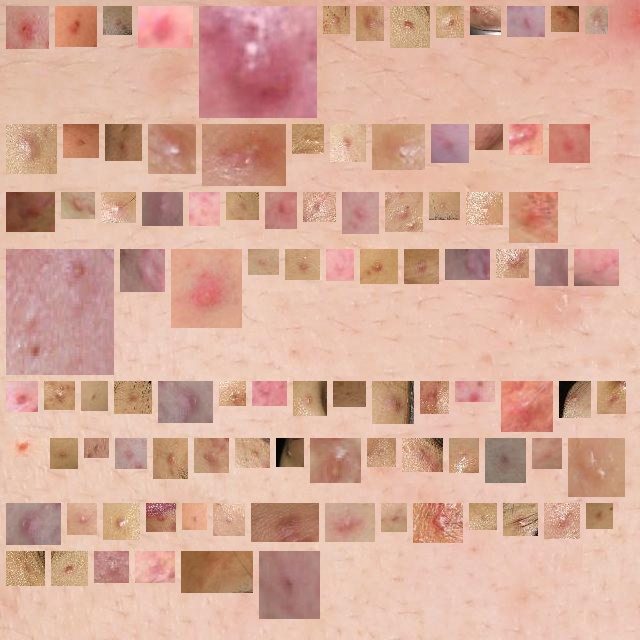papule: (14, 257, 106, 367), (207, 14, 309, 110), (179, 257, 234, 320), (210, 132, 278, 178), (267, 559, 312, 611), (576, 446, 617, 489), (189, 559, 245, 585), (509, 389, 545, 424), (259, 511, 311, 534), (14, 132, 49, 166), (517, 200, 550, 235), (380, 132, 417, 162), (156, 132, 188, 166), (318, 446, 353, 475), (146, 14, 185, 40), (166, 389, 205, 415), (14, 511, 53, 537), (421, 511, 455, 535), (14, 200, 47, 224), (128, 257, 157, 284), (333, 511, 367, 534), (14, 14, 41, 41), (493, 446, 518, 475), (380, 389, 406, 416), (63, 14, 89, 39), (398, 14, 422, 40), (582, 257, 611, 278), (557, 132, 582, 155), (350, 200, 371, 226), (393, 200, 415, 224), (439, 132, 461, 155), (161, 446, 180, 471), (150, 200, 175, 218), (410, 446, 435, 464), (113, 132, 134, 153), (111, 511, 132, 532), (338, 132, 358, 154), (14, 559, 37, 578), (453, 257, 482, 272), (368, 257, 390, 276), (552, 511, 572, 531), (59, 559, 80, 578), (143, 559, 167, 575), (122, 389, 144, 406), (412, 257, 431, 276), (202, 446, 221, 465), (71, 132, 91, 150), (474, 200, 495, 217), (543, 257, 560, 278), (301, 389, 319, 408), (273, 200, 289, 221), (567, 389, 583, 410), (515, 14, 537, 29), (511, 511, 530, 528), (102, 559, 121, 575), (109, 200, 128, 215), (293, 257, 312, 272), (221, 511, 237, 528), (517, 132, 535, 147), (197, 200, 212, 218), (243, 446, 262, 460), (457, 446, 471, 465), (463, 389, 487, 400), (14, 389, 30, 404), (123, 446, 139, 461), (311, 200, 328, 214), (364, 14, 376, 33), (300, 132, 316, 146), (75, 511, 89, 527), (504, 257, 521, 270), (428, 389, 441, 406), (605, 389, 618, 406), (540, 446, 554, 461), (234, 200, 251, 212), (69, 200, 87, 211), (478, 14, 493, 27), (52, 389, 67, 402), (444, 14, 456, 30), (334, 257, 346, 273), (154, 511, 168, 524), (437, 200, 452, 212), (58, 446, 70, 461), (260, 389, 279, 398), (341, 389, 358, 399), (111, 14, 124, 27), (375, 446, 388, 459), (284, 446, 296, 459), (89, 389, 100, 403), (256, 257, 271, 267), (331, 14, 342, 26), (477, 511, 489, 522), (389, 511, 399, 524), (559, 14, 571, 24), (483, 132, 495, 142), (594, 511, 605, 521), (227, 389, 238, 398), (190, 511, 199, 522), (593, 14, 600, 26), (92, 446, 101, 450)
